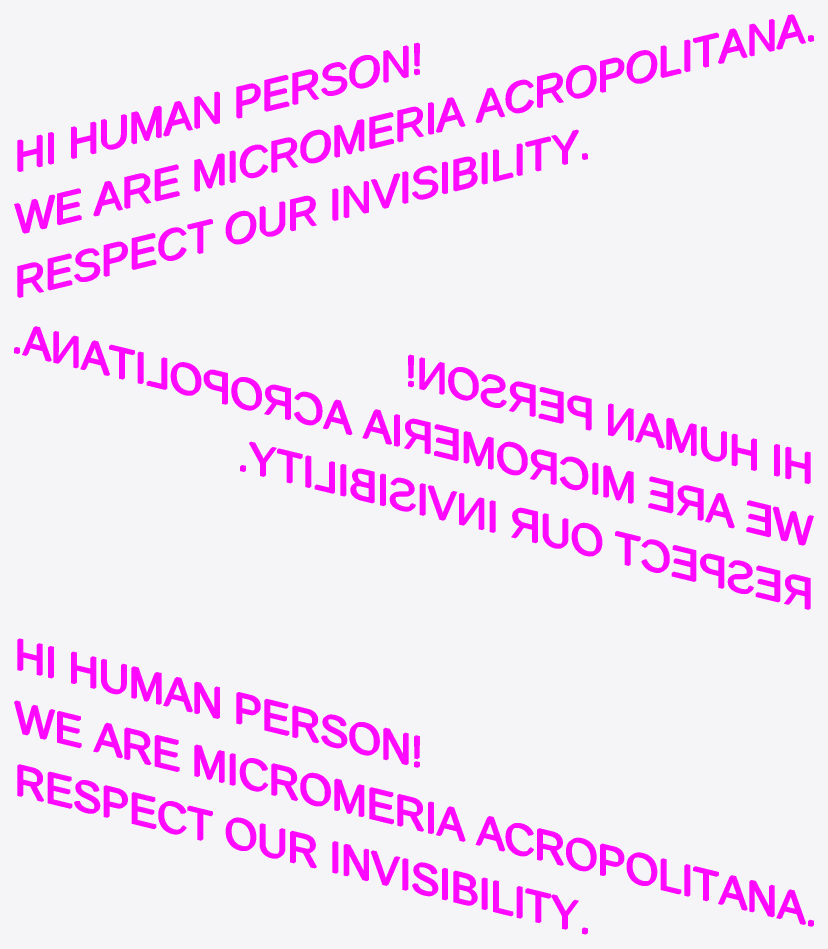
3 views of the same model, one above another, from view 1: azimuth 30°, elevation 25°; view 2: azimuth 150°, elevation 25°; view 3: azimuth 330°, elevation 25° (orthographic).
Parts seen in each view (by area): view 1: Text.002; view 2: Text.002; view 3: Text.002.
Part boxes in pixels (box(x1,y1,x2,y2)): Text.002: box(14, 14, 813, 297); Text.002: box(14, 326, 813, 609); Text.002: box(14, 638, 813, 934).
Bounding box in the file's own units: 13.28 × 2.49 × 0.06.
